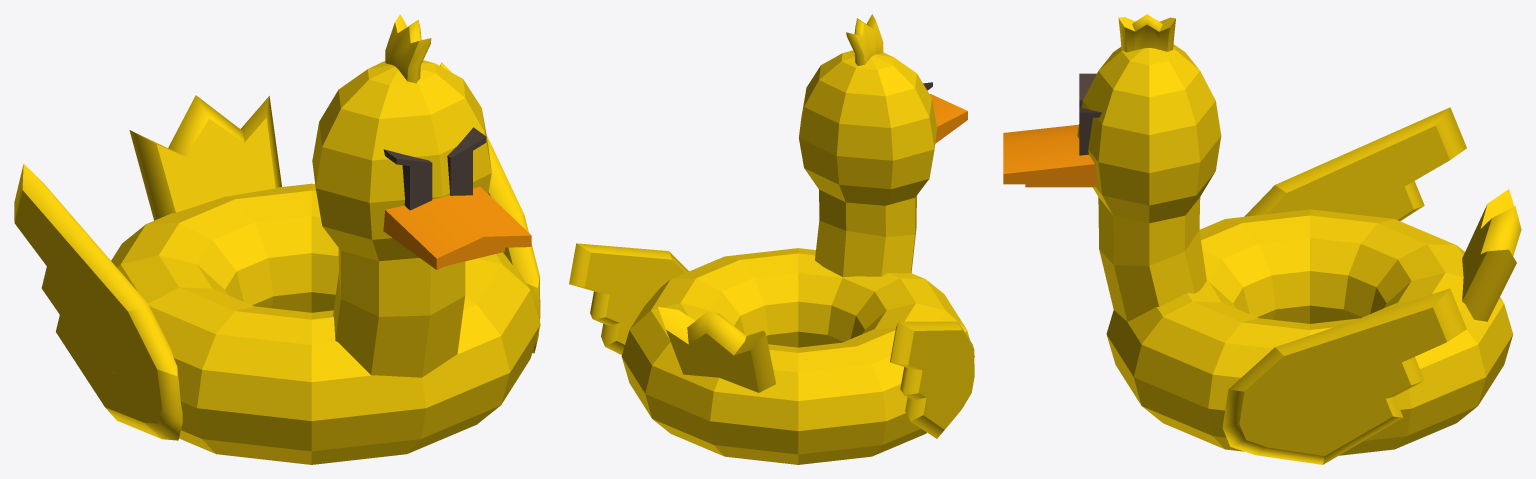
Rendered from duck_model02.fbx.
The picture shows the model from 3 angles, left to right: view 1: azimuth 30°, elevation 25°; view 2: azimuth 150°, elevation 25°; view 3: azimuth 270°, elevation 25°; orthographic projection. The views are drawn at different scales.
Visible parts, largest first — view 1: pTorus1, pSphere1, Wing_R, pCube5, pCube1, Wing_L, pCube7, LeftEye, RightEye; view 2: pTorus1, pSphere1, Wing_R, Wing_L, pCube5, pCube7, pCube1; view 3: pTorus1, pSphere1, Wing_L, Wing_R, pCube5, pCube1, pCube7, RightEye.
Boxes of the visible parts, x1,y1,x2,y2 form: pTorus1: [111, 183, 540, 464]; pSphere1: [312, 60, 491, 377]; Wing_R: [14, 164, 182, 440]; pCube5: [129, 95, 281, 220]; pCube1: [383, 186, 531, 269]; Wing_L: [440, 62, 540, 353]; pCube7: [385, 14, 431, 83]; LeftEye: [383, 149, 432, 210]; RightEye: [447, 127, 486, 195]; pTorus1: [621, 248, 974, 464]; pSphere1: [799, 50, 937, 277]; Wing_R: [890, 321, 974, 438]; Wing_L: [569, 243, 688, 354]; pCube5: [658, 307, 775, 392]; pCube7: [846, 14, 883, 65]; pCube1: [929, 94, 967, 143]; pTorus1: [1106, 209, 1513, 455]; pSphere1: [1077, 44, 1221, 321]; Wing_L: [1222, 288, 1466, 464]; Wing_R: [1244, 107, 1466, 221]; pCube5: [1462, 189, 1521, 321]; pCube1: [1003, 124, 1097, 184]; pCube7: [1118, 14, 1175, 52]; RightEye: [1079, 108, 1101, 155].
Bounding box in the file's own units: 19.83 × 18.86 × 22.81.
